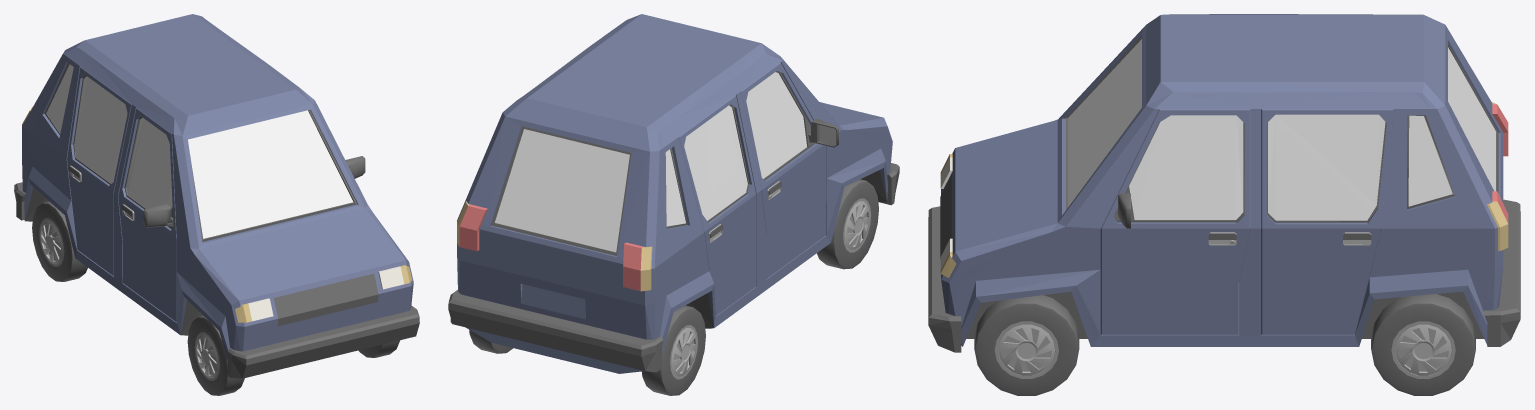
The model's file is family-car.glb.
The picture shows the model from 3 angles, left to right: view 1: azimuth 30°, elevation 25°; view 2: azimuth 150°, elevation 25°; view 3: azimuth 270°, elevation 25°; orthographic projection. The views are drawn at different scales.
Visible parts, largest first — view 1: Chassis, Windows, FR_Door, RR_Door, RR_Wheel, FR_Wheel, Front_Lights, FL_Wheel; view 2: Chassis, Windows, FR_Door, RR_Door, FR_Wheel, RR_Wheel, Brake_Lights, Turn_Lights_r, RL_Wheel; view 3: Chassis, FL_Door, RL_Door, Windows, RL_Wheel, FL_Wheel, Turn_Lights_l, Brake_Lights.
Part boxes in pixels (bbox=[...]): Chassis: bbox=[14, 14, 419, 378]; Windows: bbox=[46, 64, 353, 238]; FR_Door: bbox=[118, 108, 176, 321]; RR_Door: bbox=[67, 67, 131, 276]; RR_Wheel: bbox=[32, 201, 87, 281]; FR_Wheel: bbox=[187, 315, 244, 395]; Front_Lights: bbox=[248, 266, 404, 321]; FL_Wheel: bbox=[358, 340, 399, 357]; Chassis: bbox=[448, 14, 899, 373]; Windows: bbox=[495, 129, 685, 252]; FR_Door: bbox=[741, 62, 838, 278]; RR_Door: bbox=[678, 95, 756, 315]; FR_Wheel: bbox=[817, 179, 878, 269]; RR_Wheel: bbox=[642, 305, 705, 395]; Brake_Lights: bbox=[459, 204, 643, 291]; Turn_Lights_r: bbox=[640, 246, 652, 291]; RL_Wheel: bbox=[469, 330, 513, 353]; Chassis: bbox=[928, 14, 1520, 352]; FL_Door: bbox=[1100, 109, 1250, 334]; RL_Door: bbox=[1261, 109, 1393, 334]; Windows: bbox=[1068, 39, 1495, 207]; RL_Wheel: bbox=[1371, 294, 1475, 395]; FL_Wheel: bbox=[974, 295, 1079, 395]; Turn_Lights_l: bbox=[940, 201, 1508, 277]; Brake_Lights: bbox=[1492, 104, 1508, 223].
Bounding box in the file's own units: 5.14 × 5.15 × 9.39.
